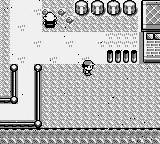main: (82, 60, 95, 76)
no-caminable: (141, 0, 160, 63), (74, 0, 138, 16), (108, 50, 138, 63)
npc: (43, 12, 57, 28)
